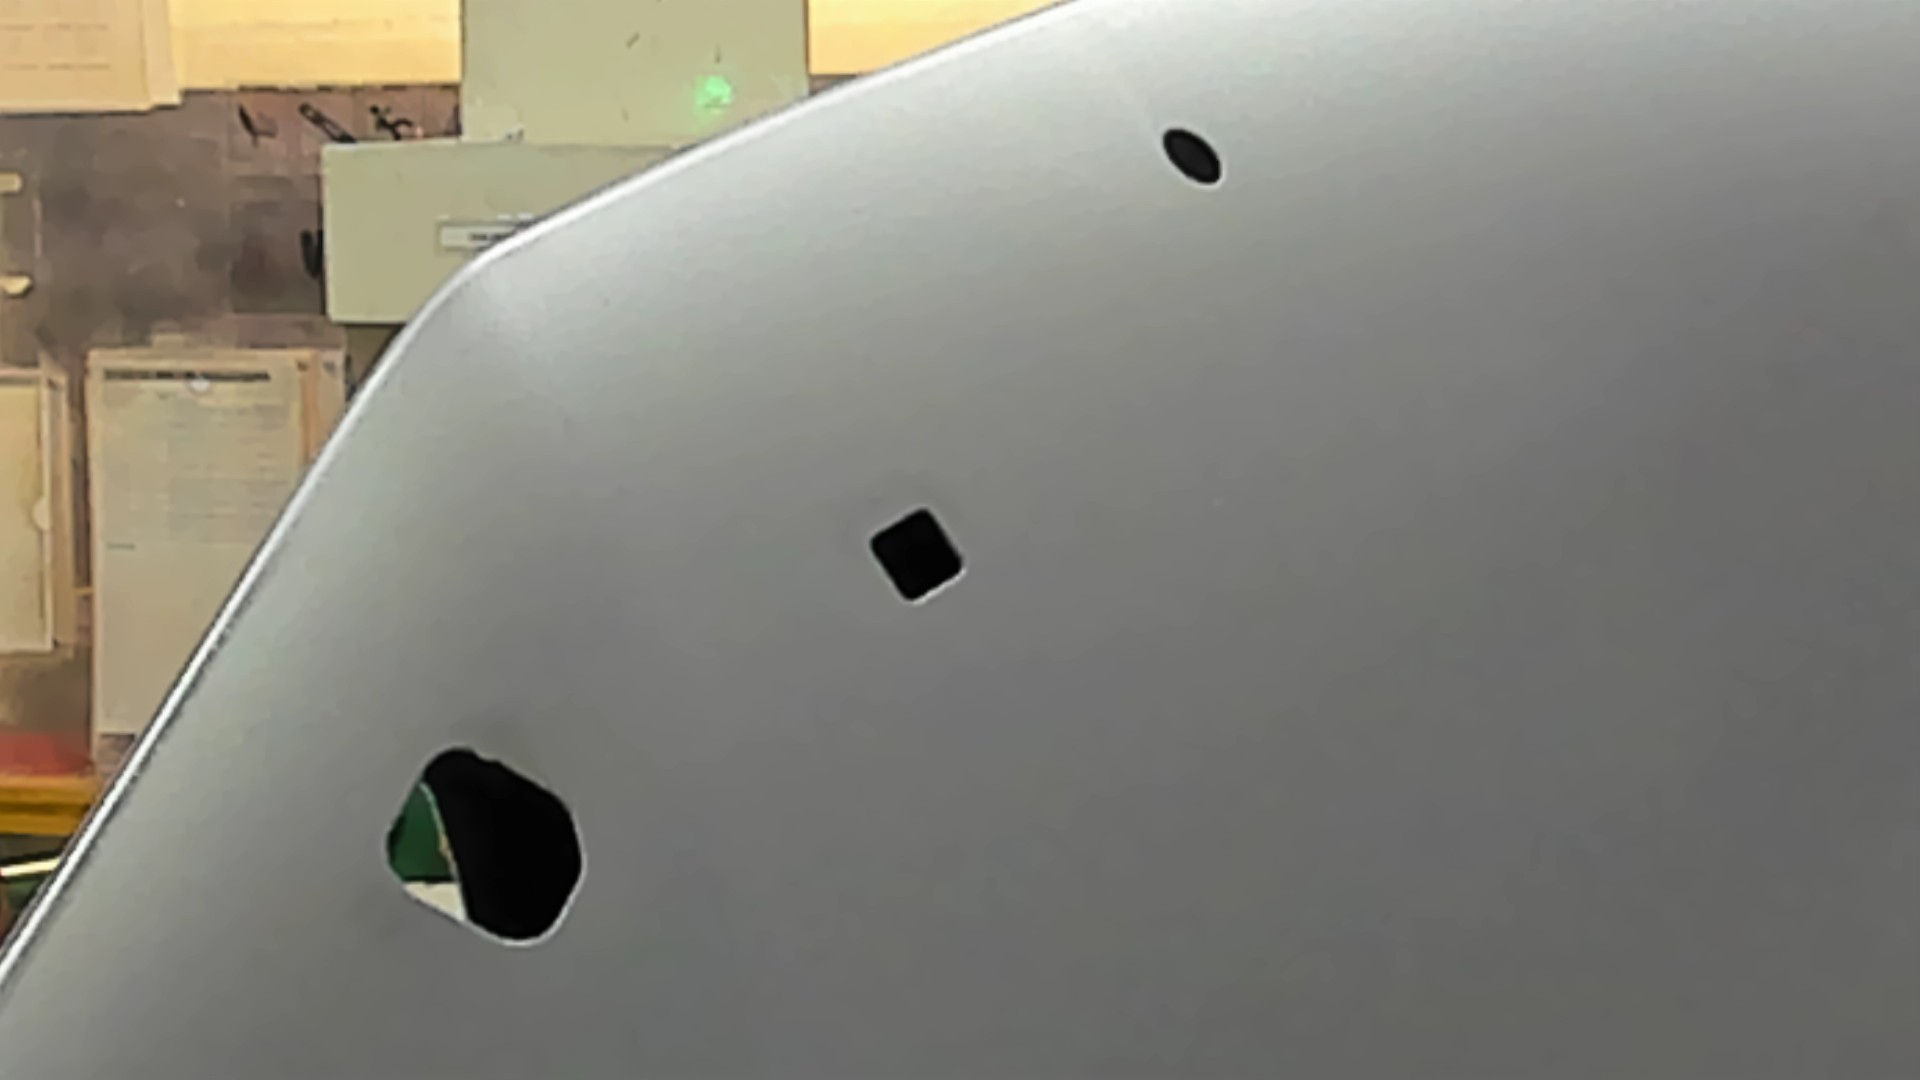chico: (1146, 119, 1241, 200)
grande: (355, 733, 601, 968)
mediano: (858, 492, 982, 618)
